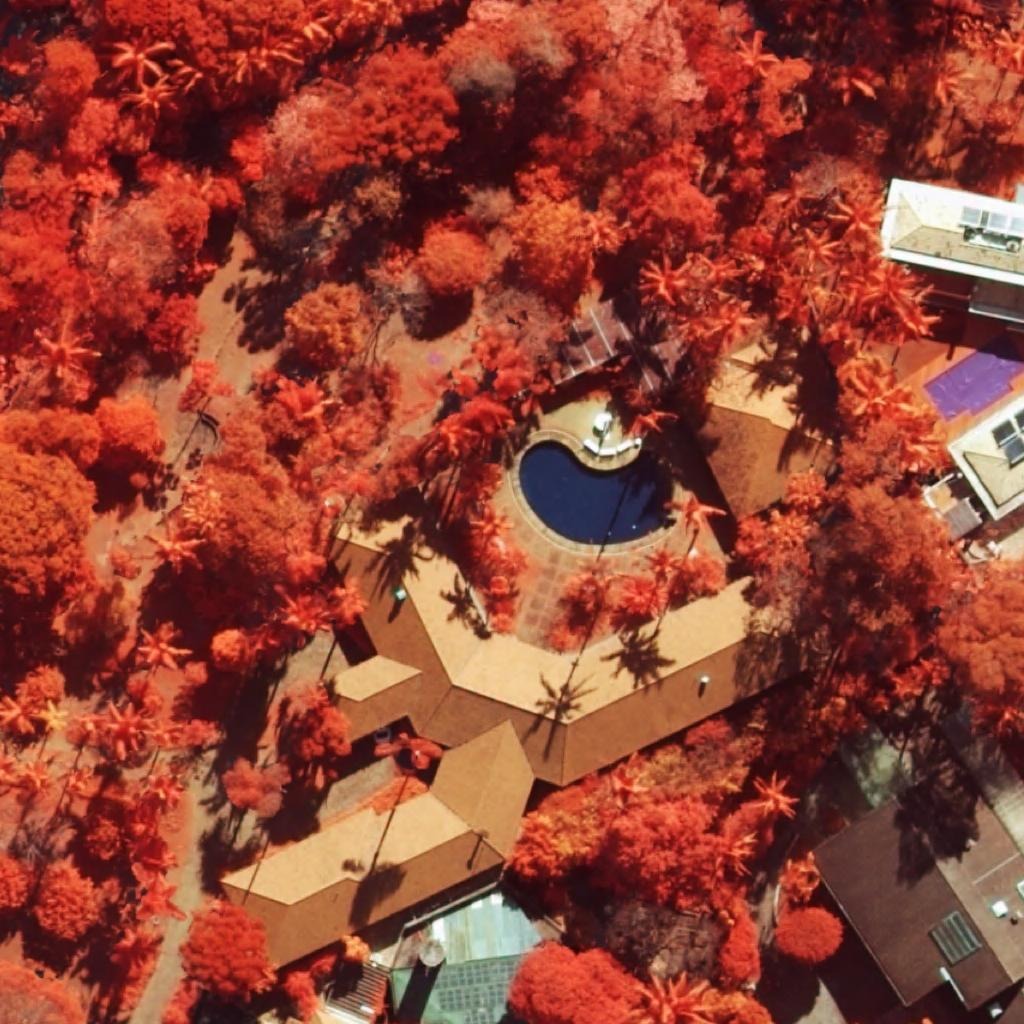pool: (519, 439, 672, 546), (924, 333, 1024, 422)
